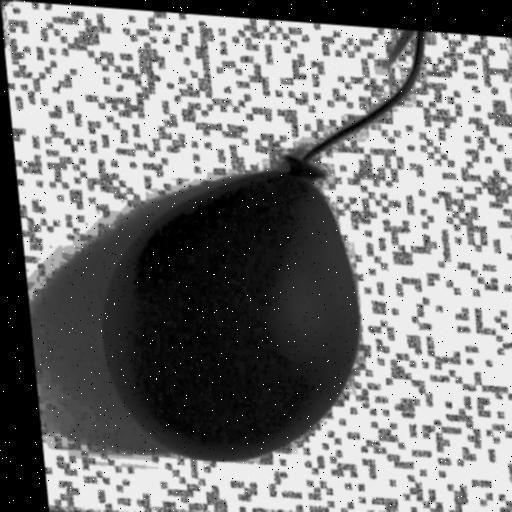balloon: (80, 149, 379, 480)
